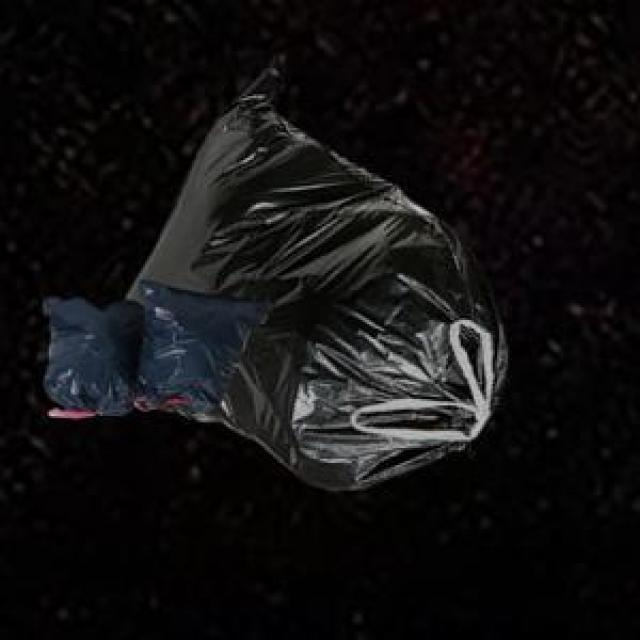waste: (45, 70, 505, 491)
